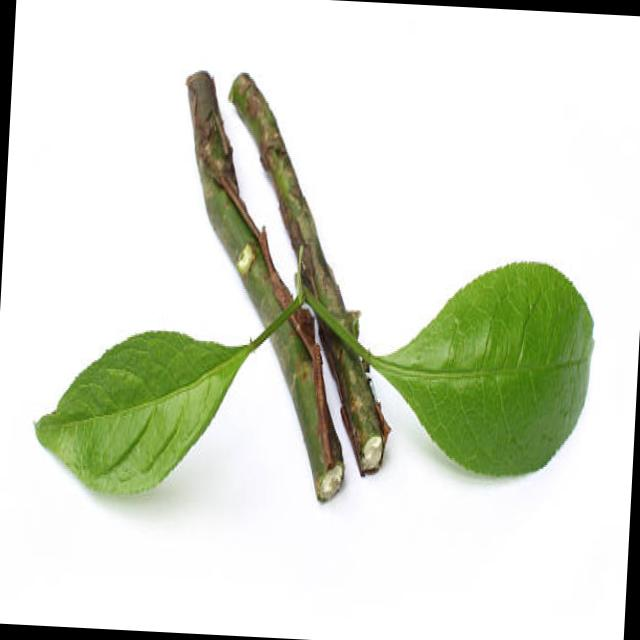Sandalwood: (146, 49, 562, 554)
